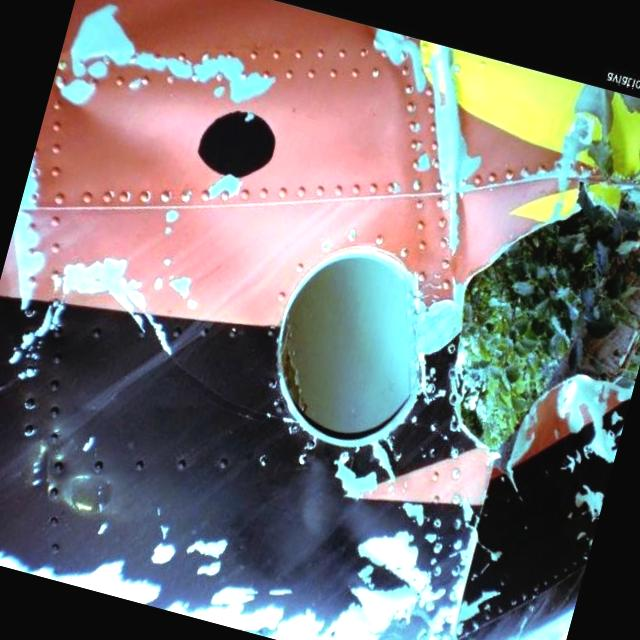dent: (232, 448, 408, 604), (40, 66, 202, 186)
